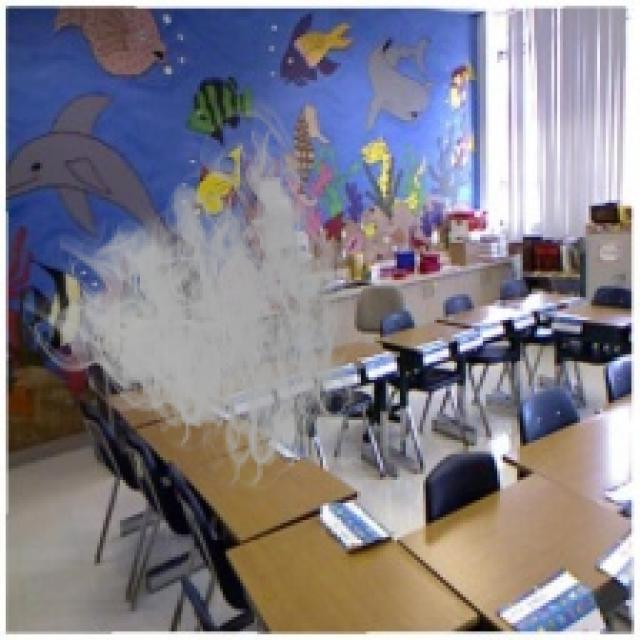Smoke: (22, 94, 378, 503)
